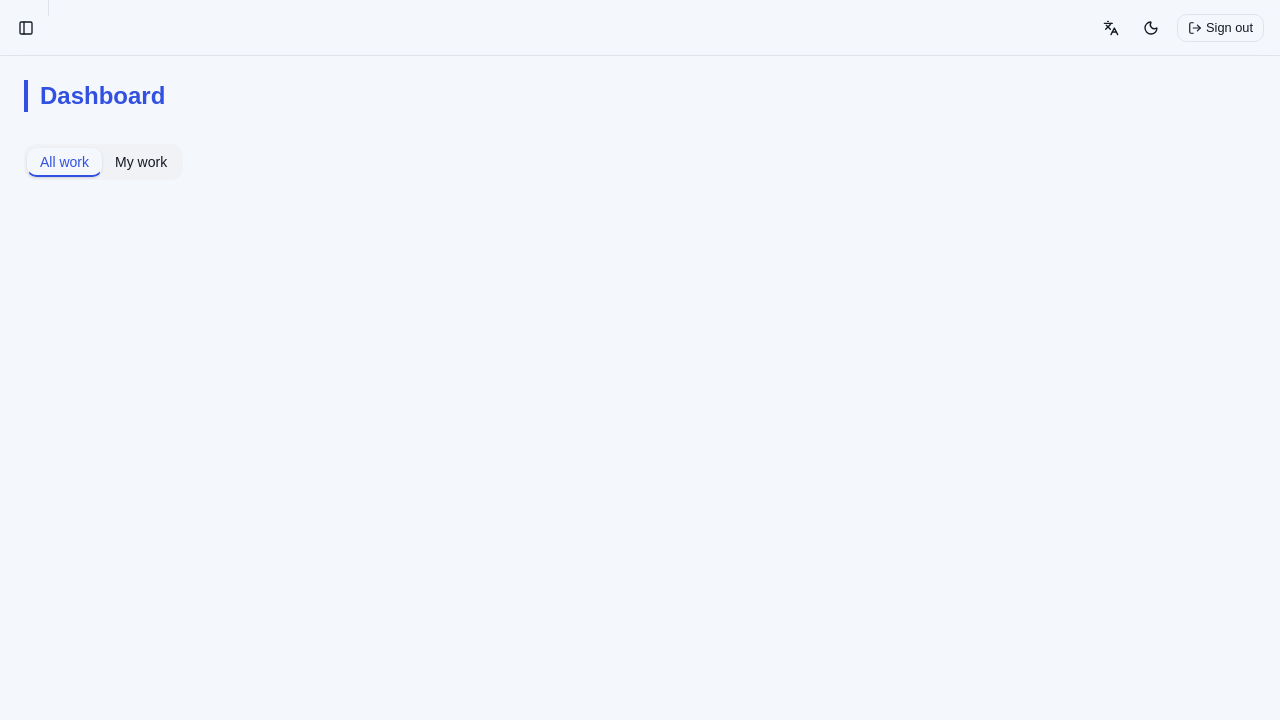
Scenario: App layout and routing › signs out: clears the token and goes to the login page
Click the button "Sign out". click: [1220, 28]
box: [1177,14,1264,42]
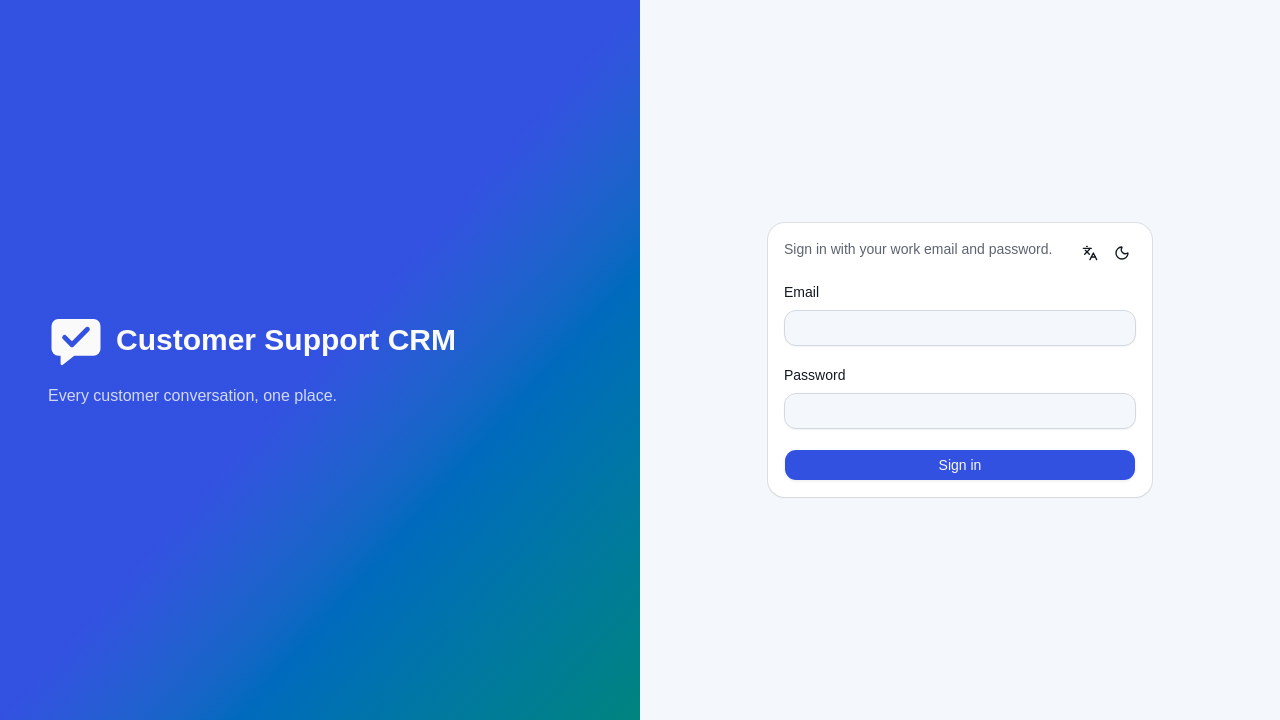
Now the form "Sign in" is shown, box [784,283,1136,481]
